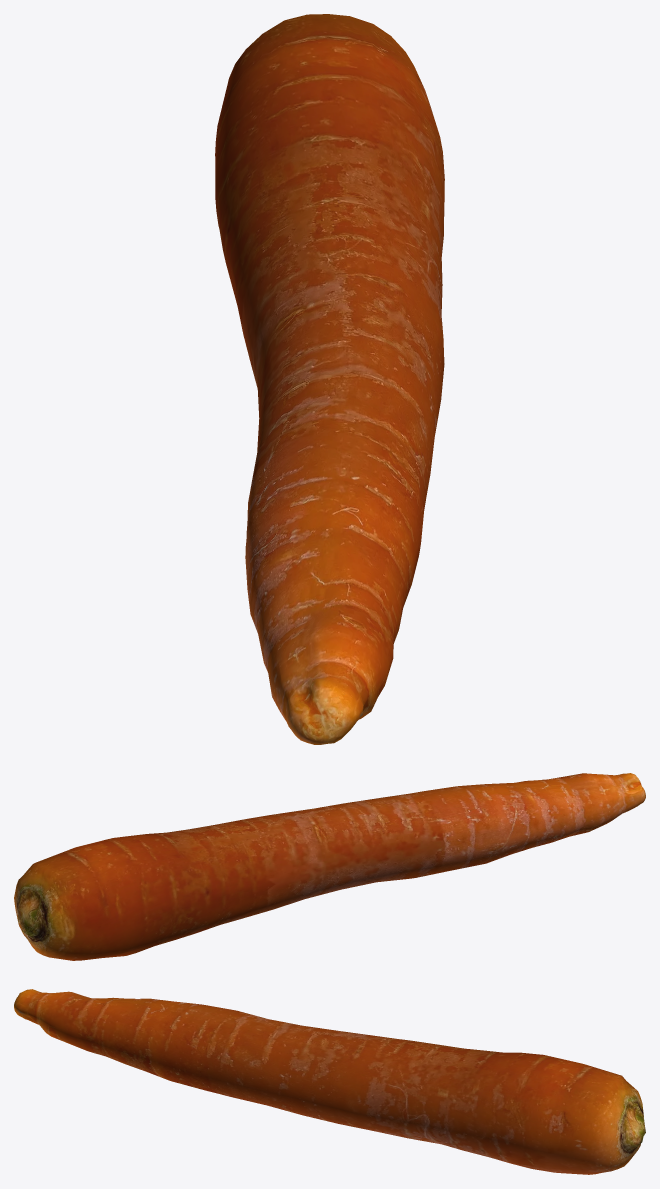
File: realcarrot.glb
3 renders of one model, top to bottom at view 1: azimuth 30°, elevation 25°; view 2: azimuth 150°, elevation 25°; view 3: azimuth 270°, elevation 25°, orthographic. The views are drawn at different scales.
Visible parts, largest first — view 1: Carrot; view 2: Carrot; view 3: Carrot.
Boxes of the visible parts, box(x1,y1,x2,y2) form: Carrot: box(215, 14, 444, 744); Carrot: box(14, 773, 645, 960); Carrot: box(14, 989, 645, 1174).
Bounding box in the file's own units: 0.1129 × 0.0329 × 0.18.
Materials: 1 (1 with a texture image).
